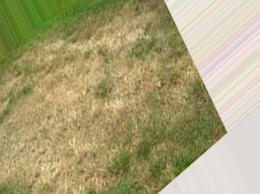patch: (27, 82, 80, 148), (89, 90, 138, 135), (74, 43, 131, 79), (29, 157, 93, 186)
